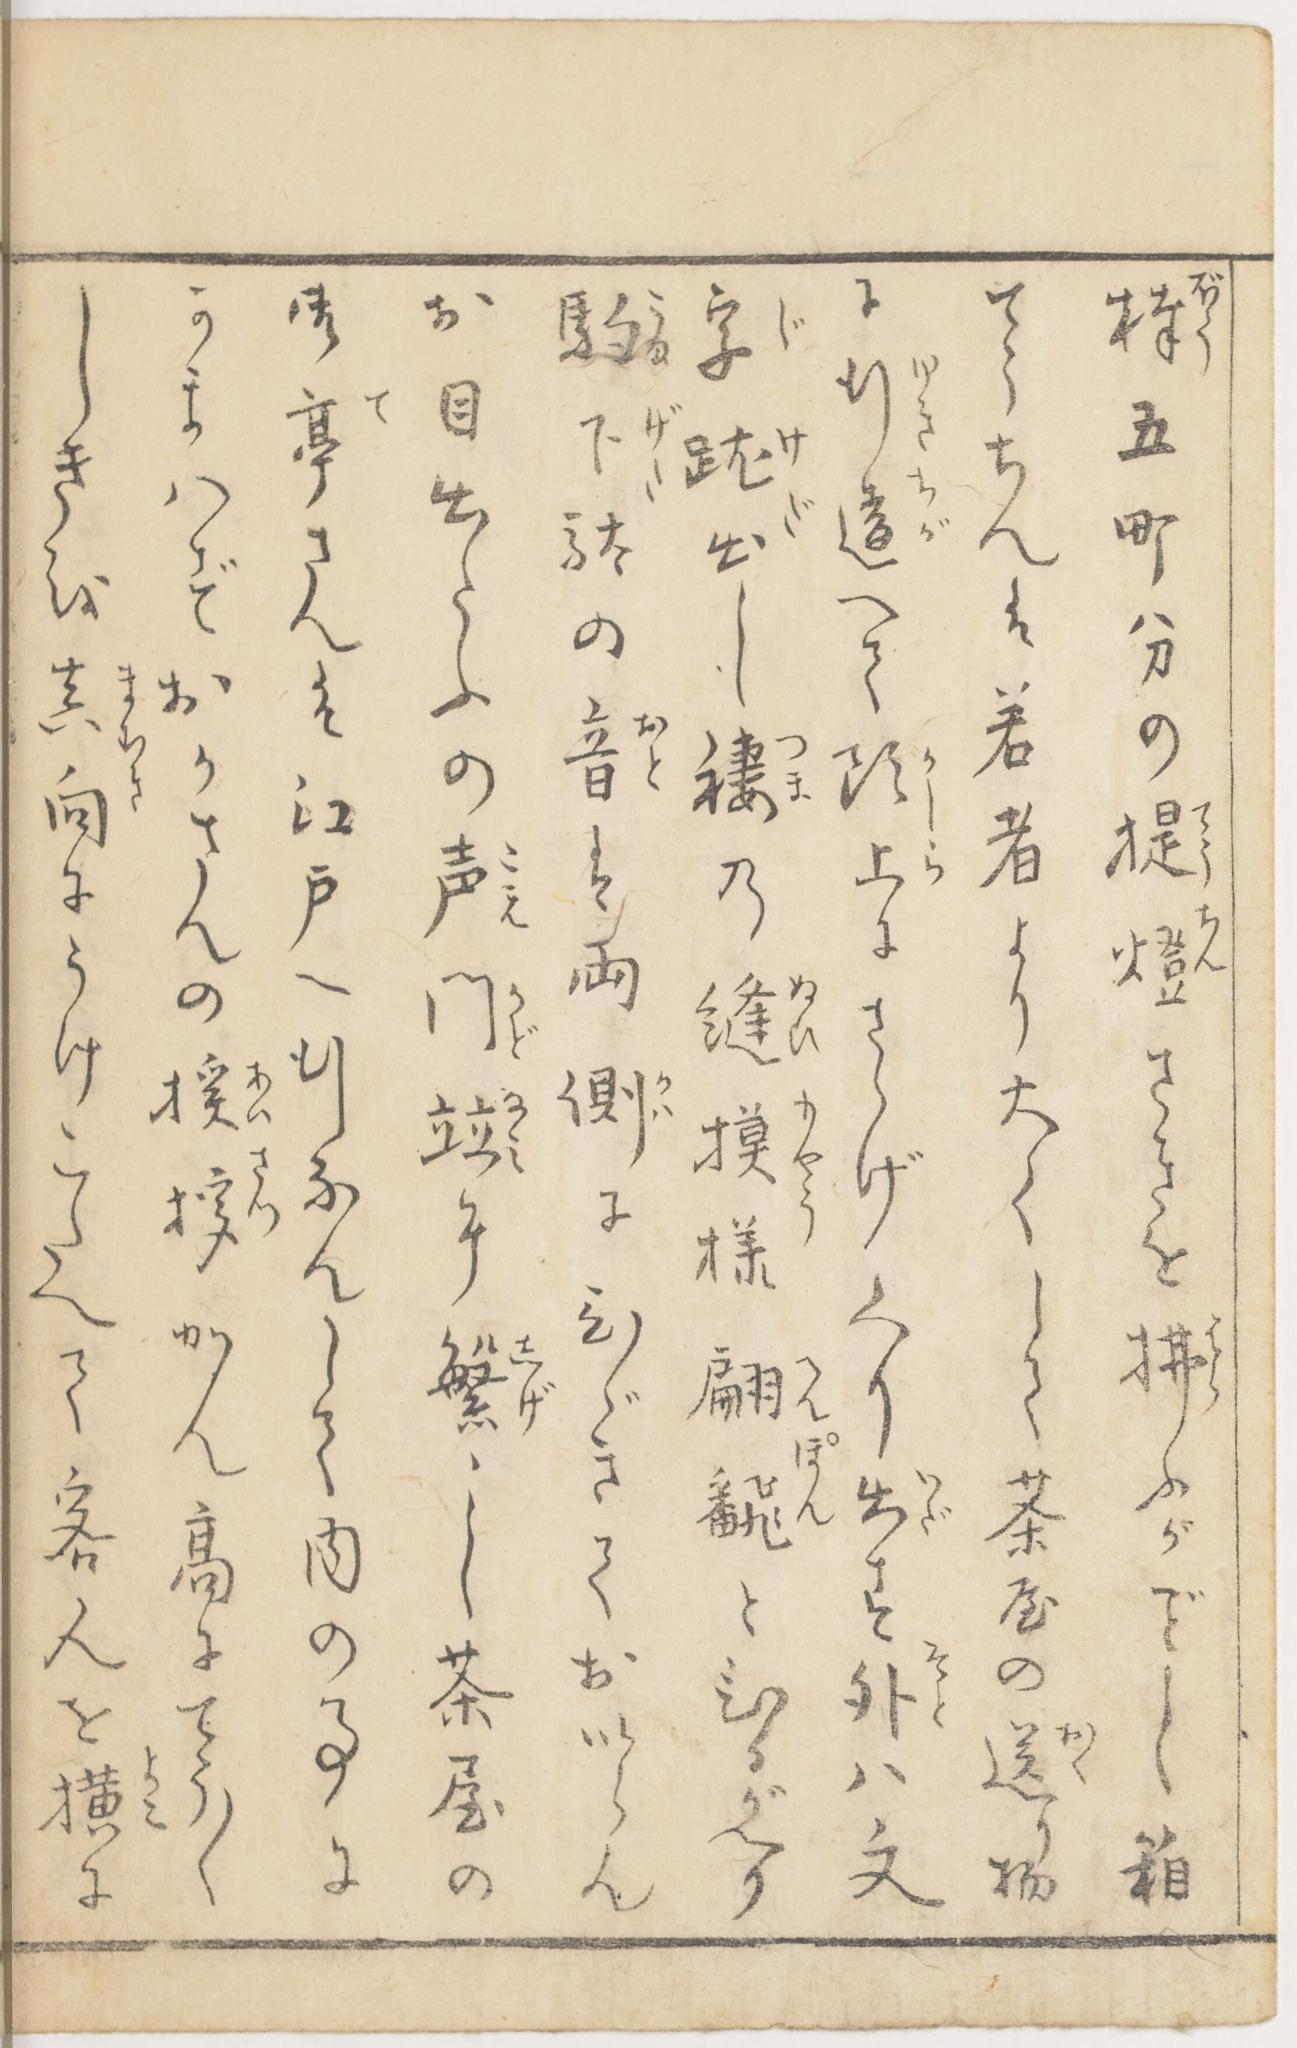MainZone-Character: (146, 1143, 291, 1279), (693, 1433, 846, 1560), (425, 1326, 563, 1445), (1101, 258, 1234, 381), (685, 1178, 827, 1291), (691, 270, 818, 394), (825, 464, 967, 573), (693, 714, 821, 831), (1103, 897, 1239, 1008), (555, 1052, 682, 1170), (48, 1742, 176, 1855), (546, 273, 682, 375), (1091, 794, 1228, 894), (34, 648, 152, 763), (287, 388, 400, 506), (416, 963, 546, 1066), (148, 1043, 284, 1139), (688, 1084, 830, 1175), (694, 970, 828, 1066), (834, 342, 951, 451), (836, 1635, 957, 1738), (684, 485, 822, 575), (696, 1342, 836, 1430), (981, 1708, 1106, 1805), (413, 1091, 549, 1181), (422, 827, 533, 936), (567, 694, 673, 806), (1118, 1312, 1236, 1411), (828, 727, 945, 822), (572, 402, 681, 499), (682, 410, 819, 484), (43, 761, 154, 848), (852, 1466, 958, 1551), (843, 830, 955, 900)
MainZone-Ruby: (501, 1326, 564, 1432), (1182, 261, 1234, 373), (790, 1429, 842, 1537), (497, 964, 548, 1063), (901, 466, 957, 555), (900, 345, 948, 448), (779, 963, 827, 1063), (773, 719, 821, 814), (636, 402, 682, 499), (628, 702, 673, 797), (240, 1145, 290, 1231), (915, 1633, 954, 1738), (110, 657, 151, 754), (1061, 1711, 1110, 1788), (497, 828, 533, 934), (496, 1088, 540, 1172), (787, 1082, 827, 1173), (139, 1743, 178, 1838), (640, 278, 678, 370), (788, 1348, 831, 1427), (1198, 1312, 1228, 1426), (1185, 905, 1228, 982), (770, 288, 816, 360), (910, 1470, 957, 1540), (240, 1052, 278, 1133), (1190, 794, 1221, 888), (910, 740, 946, 821), (646, 1063, 684, 1130), (794, 1178, 825, 1252), (367, 382, 407, 439), (772, 410, 810, 467), (779, 485, 818, 540), (119, 761, 151, 818), (918, 833, 943, 894)
